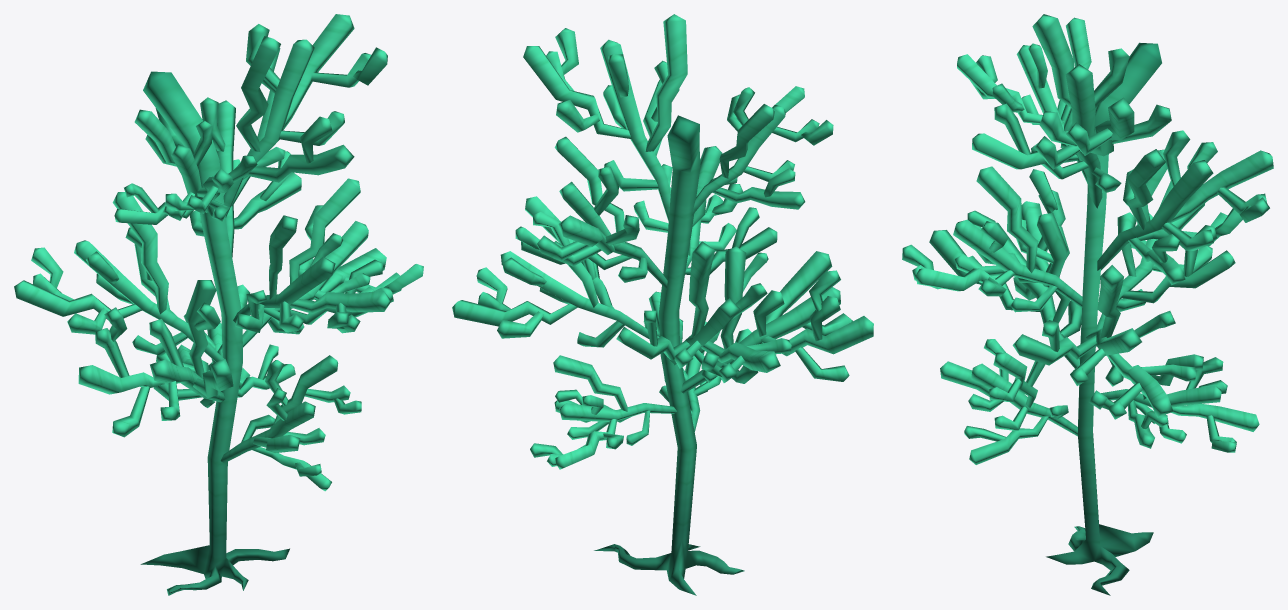
File: CoralSputnick2.fbx
3 renders of one model, left to right at view 1: azimuth 30°, elevation 25°; view 2: azimuth 150°, elevation 25°; view 3: azimuth 270°, elevation 25°, orthographic. The views are drawn at different scales.
Visible parts, largest first — view 1: SputnickWeed; view 2: SputnickWeed; view 3: SputnickWeed.
Boxes of the visible parts, x1,y1,x2,y2 form: SputnickWeed: [14, 14, 423, 595]; SputnickWeed: [452, 14, 873, 595]; SputnickWeed: [902, 14, 1273, 595].
Bounding box in the file's own units: 310 × 428 × 260.
